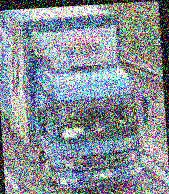truck: (0, 2, 151, 194)
